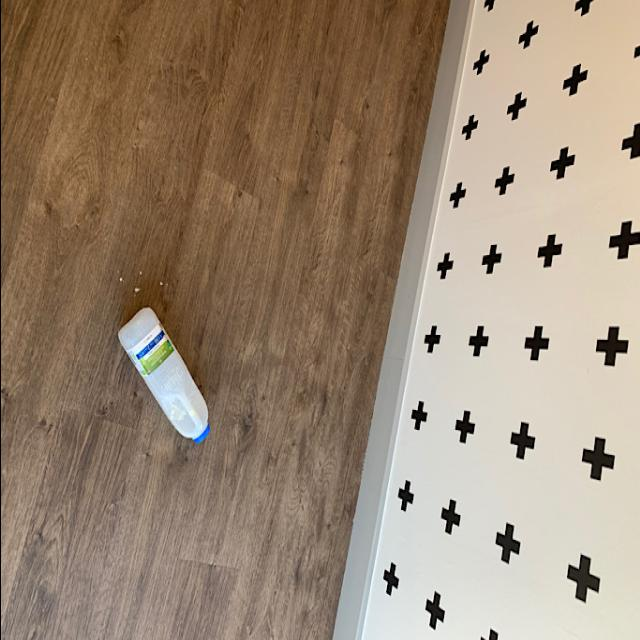litter: (110, 294, 212, 442)
